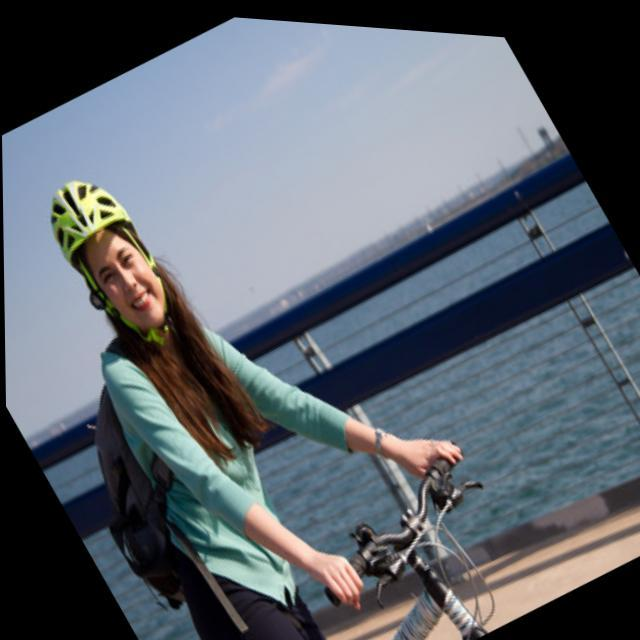Helmet: (46, 170, 176, 334)
